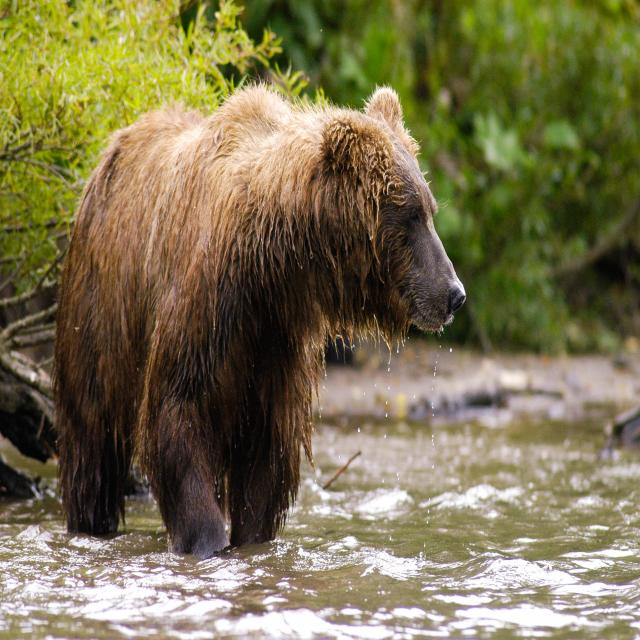Bear: (53, 85, 469, 561)
